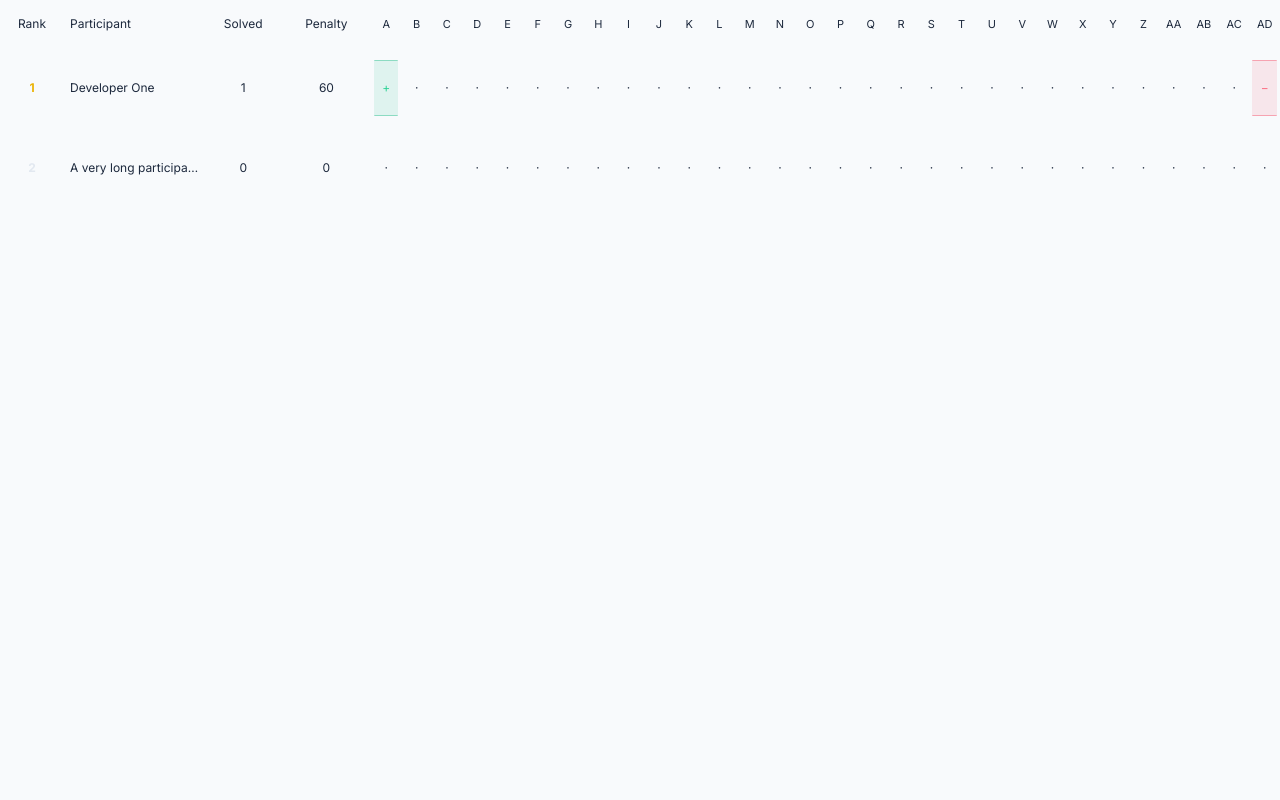
it: Responsive contest standings › distinguishes an unattempted problem without hiding that column
The image size is (1280, 800).
Click the button named "Developer One — B: Problem 2 — Not attempted".
click(417, 88)  # box [404,60,429,116]
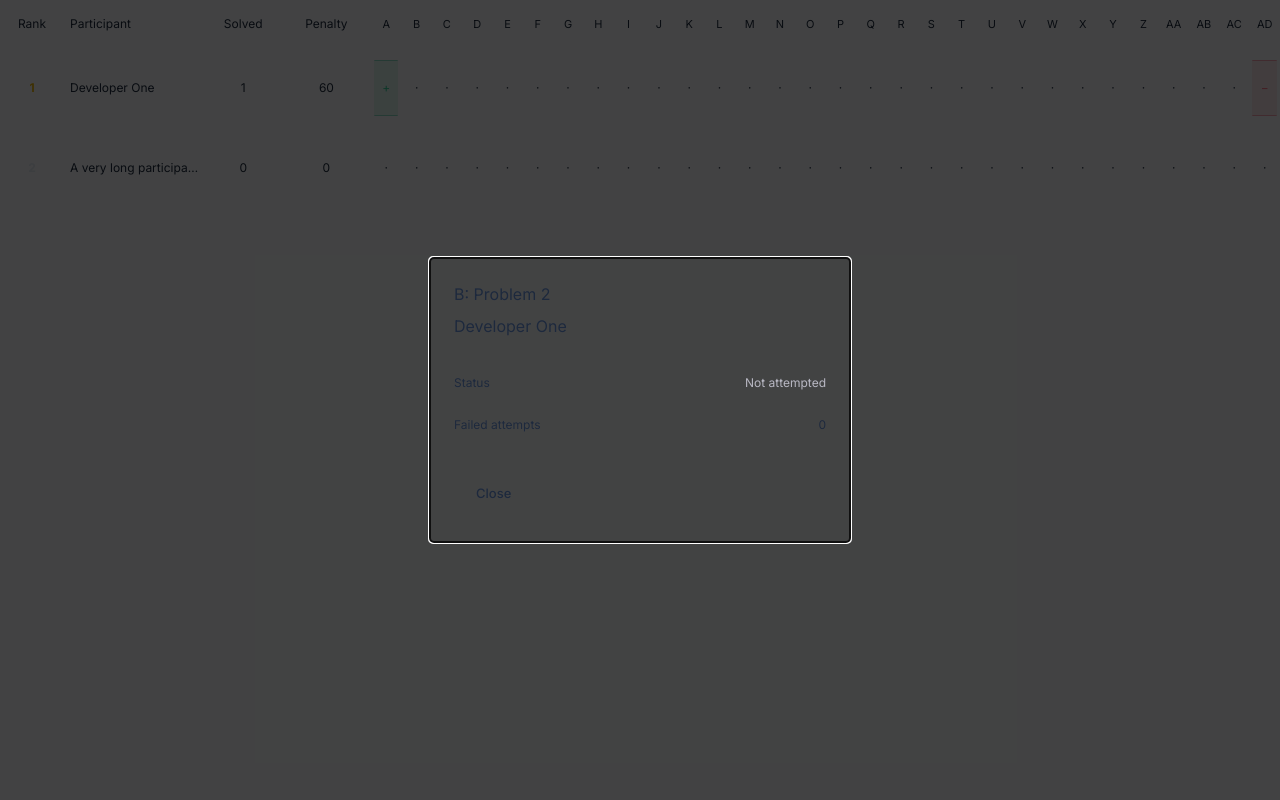
Result: the text "Not attempted" is shown at [745,374,826,392]
Result: the text "0" is shown at [818,416,826,434]
